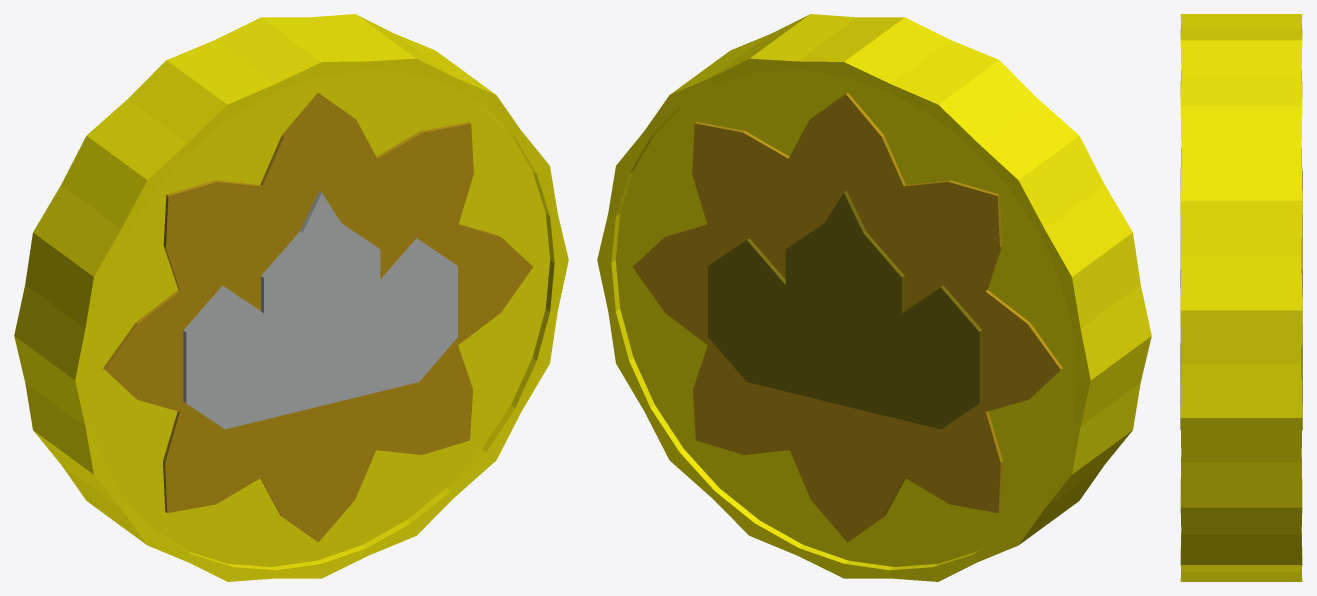
File: Coin.glb
3 views of the same model, side by side, from view 1: azimuth 30°, elevation 25°; view 2: azimuth 150°, elevation 25°; view 3: azimuth 270°, elevation 25° (orthographic).
Visible parts, largest first — view 1: Plane; view 2: Plane; view 3: Plane.
Part boxes in pixels (<box>): Plane: <box>14,14,568,581</box>; Plane: <box>597,14,1151,581</box>; Plane: <box>1180,14,1302,581</box>.
Size of the model in its own units: 2.05 by 2.05 by 0.4401.
1 material, 1 textured.
